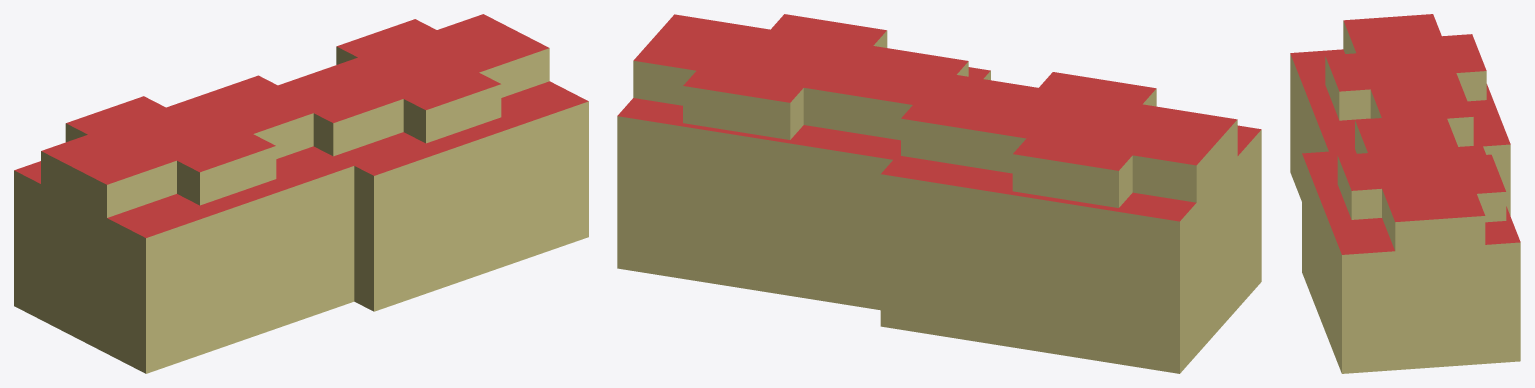
3 views of the same model, side by side, from view 1: azimuth 30°, elevation 25°; view 2: azimuth 150°, elevation 25°; view 3: azimuth 270°, elevation 25° (orthographic). The views are drawn at different scales.
Bounding box in the file's own units: 48.03 × 21.81 × 15.45.
